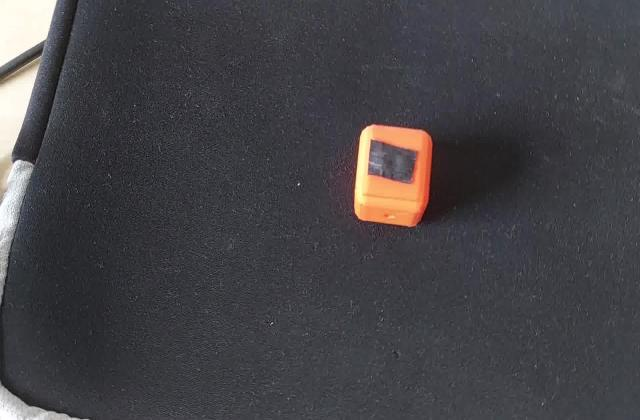black: (363, 140, 423, 188)
sticker: (347, 121, 434, 234)
